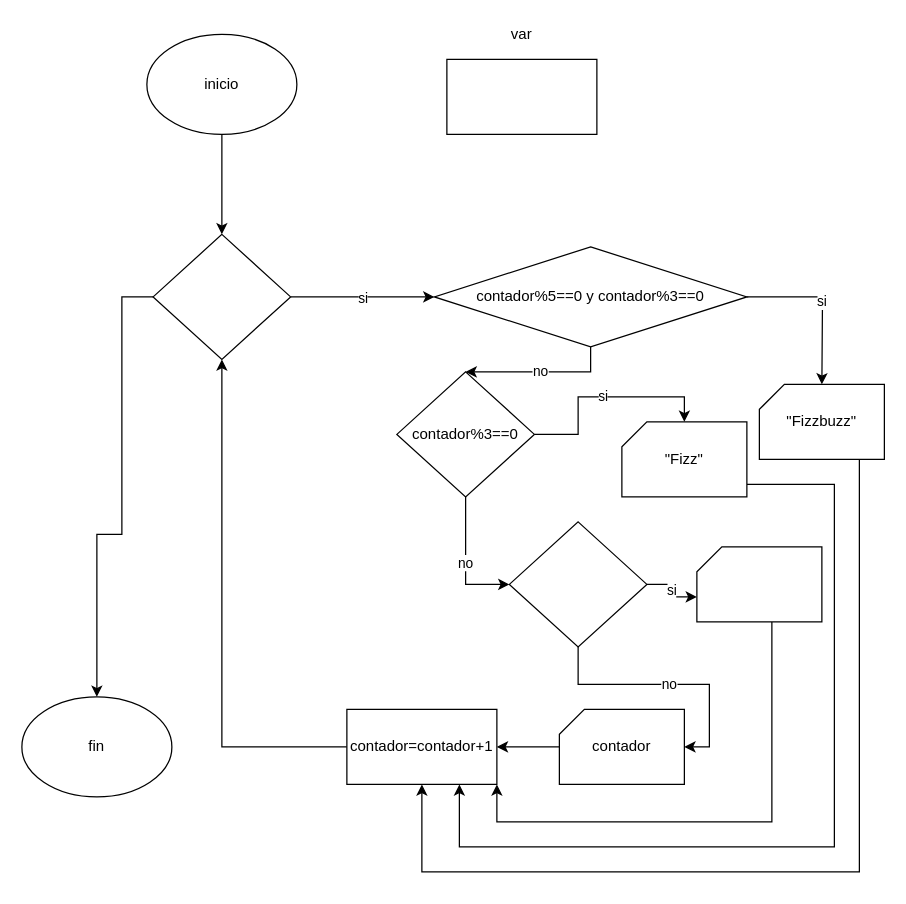
Some shapes in this 906 by 904 pixel diagram are drawn without their labels. The shapes that lost their labels are listed below. From the top down, each one's centre as x and y in pixels, then its label:
point (521, 96): contador=1: numerica
point (221, 296): contador<100
point (577, 584): contador%5==0
point (759, 584): "Buzz"
